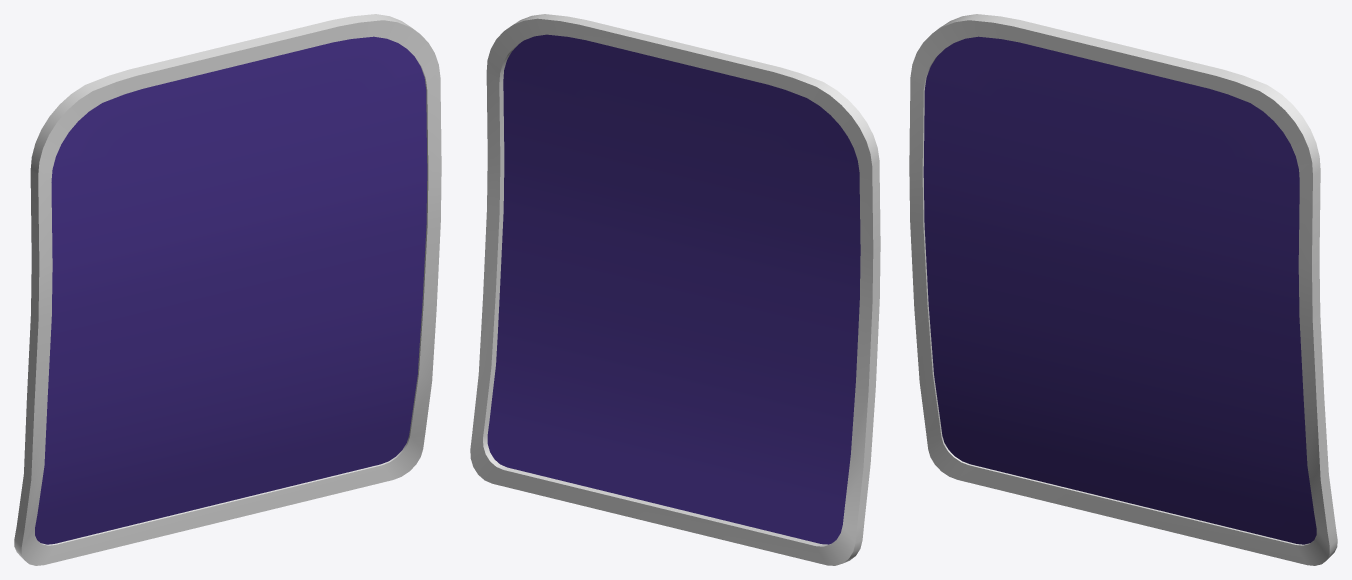
The model's file is MESH_window_V03.fbx.
The picture shows the model from 3 angles, left to right: view 1: azimuth 30°, elevation 25°; view 2: azimuth 150°, elevation 25°; view 3: azimuth 330°, elevation 25°; orthographic projection. The views are drawn at different scales.
Parts seen in each view (by area): view 1: Fenetre metro; view 2: Fenetre metro; view 3: Fenetre metro.
Boxes of the visible parts, x1,y1,x2,y2 form: Fenetre metro: [14, 14, 441, 565]; Fenetre metro: [470, 14, 880, 565]; Fenetre metro: [909, 14, 1337, 565].
Bounding box in the file's own units: 183 × 22.98 × 211.
